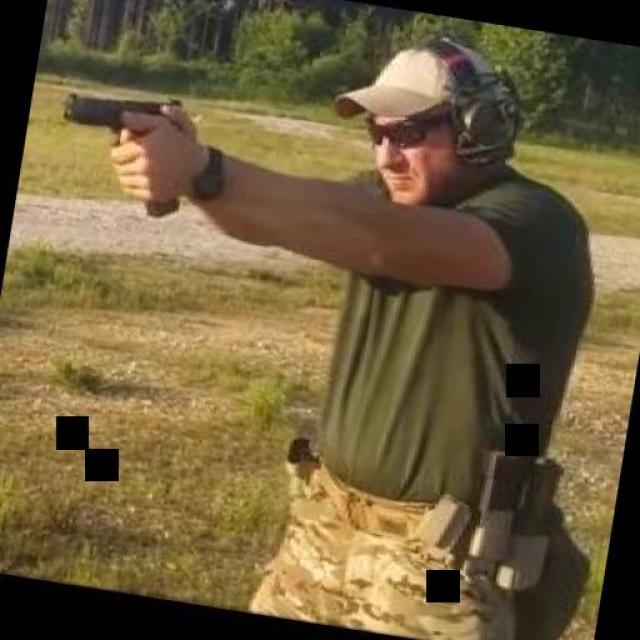gun: (41, 74, 199, 214)
